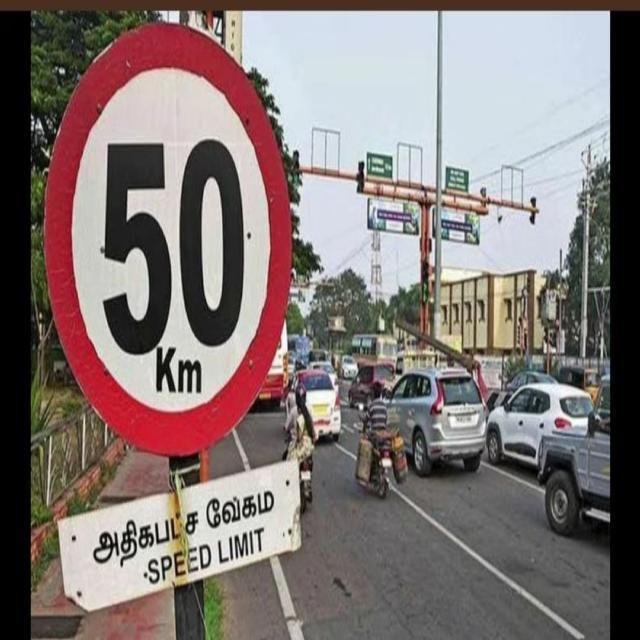speed limit 50: (49, 26, 293, 446)
